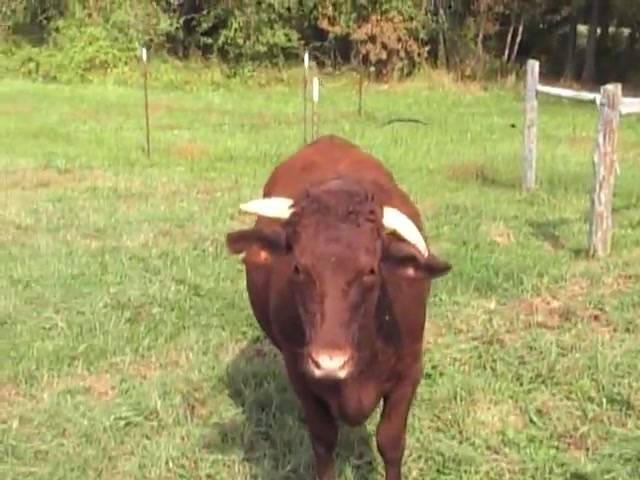cow: (229, 134, 453, 480)
